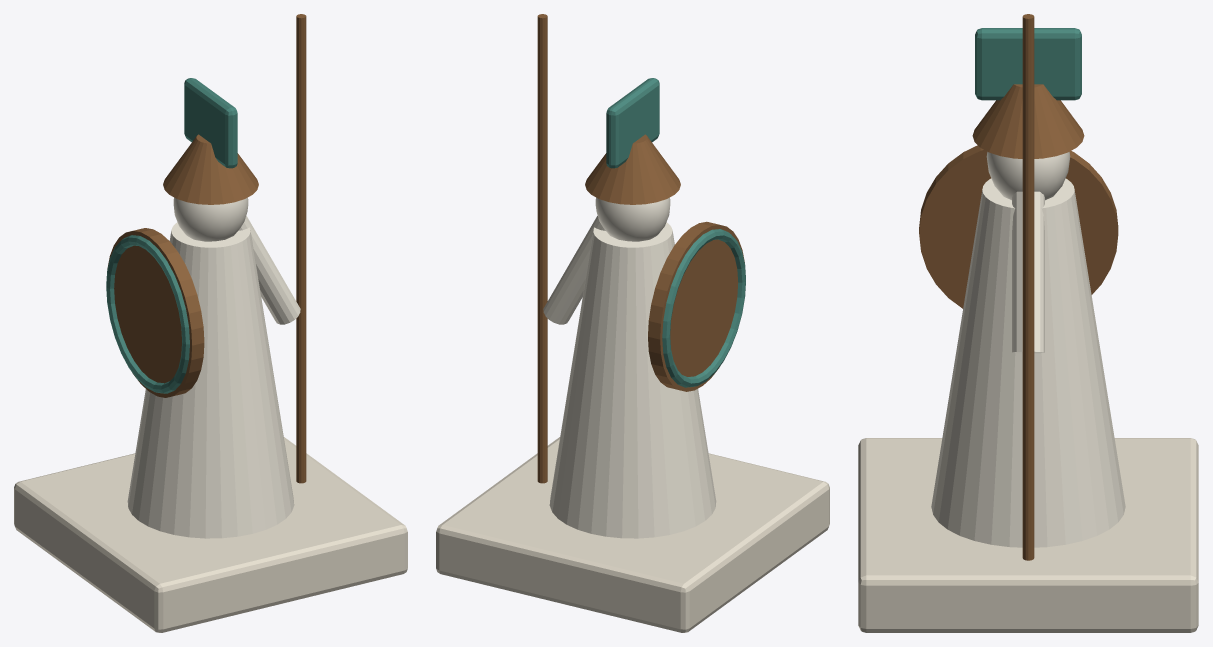
File: Greek_Athena_Statue.fbx
3 renders of one model, left to right at view 1: azimuth 30°, elevation 25°; view 2: azimuth 150°, elevation 25°; view 3: azimuth 270°, elevation 25°, orthographic. The views are drawn at different scales.
Visible parts, largest first — view 1: Greek_Athena_Statue - Aged Pentelic Marble, Greek_Athena_Statue - Fresh Marble Edge, Greek_Athena_Statue - Aged Bronze, Greek_Athena_Statue - Bronze Patina; view 2: Greek_Athena_Statue - Fresh Marble Edge, Greek_Athena_Statue - Aged Pentelic Marble, Greek_Athena_Statue - Aged Bronze, Greek_Athena_Statue - Bronze Patina; view 3: Greek_Athena_Statue - Fresh Marble Edge, Greek_Athena_Statue - Aged Pentelic Marble, Greek_Athena_Statue - Aged Bronze, Greek_Athena_Statue - Bronze Patina.
Part boxes in pixels (bbox=[...]): Greek_Athena_Statue - Aged Pentelic Marble: bbox=[14, 437, 407, 632]; Greek_Athena_Statue - Fresh Marble Edge: bbox=[127, 197, 300, 538]; Greek_Athena_Statue - Aged Bronze: bbox=[107, 14, 306, 483]; Greek_Athena_Statue - Bronze Patina: bbox=[106, 78, 237, 393]; Greek_Athena_Statue - Fresh Marble Edge: bbox=[543, 197, 716, 538]; Greek_Athena_Statue - Aged Pentelic Marble: bbox=[436, 437, 829, 632]; Greek_Athena_Statue - Aged Bronze: bbox=[537, 14, 744, 483]; Greek_Athena_Statue - Bronze Patina: bbox=[606, 78, 745, 387]; Greek_Athena_Statue - Fresh Marble Edge: bbox=[931, 152, 1125, 547]; Greek_Athena_Statue - Aged Pentelic Marble: bbox=[858, 438, 1198, 632]; Greek_Athena_Statue - Aged Bronze: bbox=[919, 14, 1118, 560]; Greek_Athena_Statue - Bronze Patina: bbox=[975, 28, 1081, 100].
Size of the model in its own units: 7 by 13.6 by 7.
